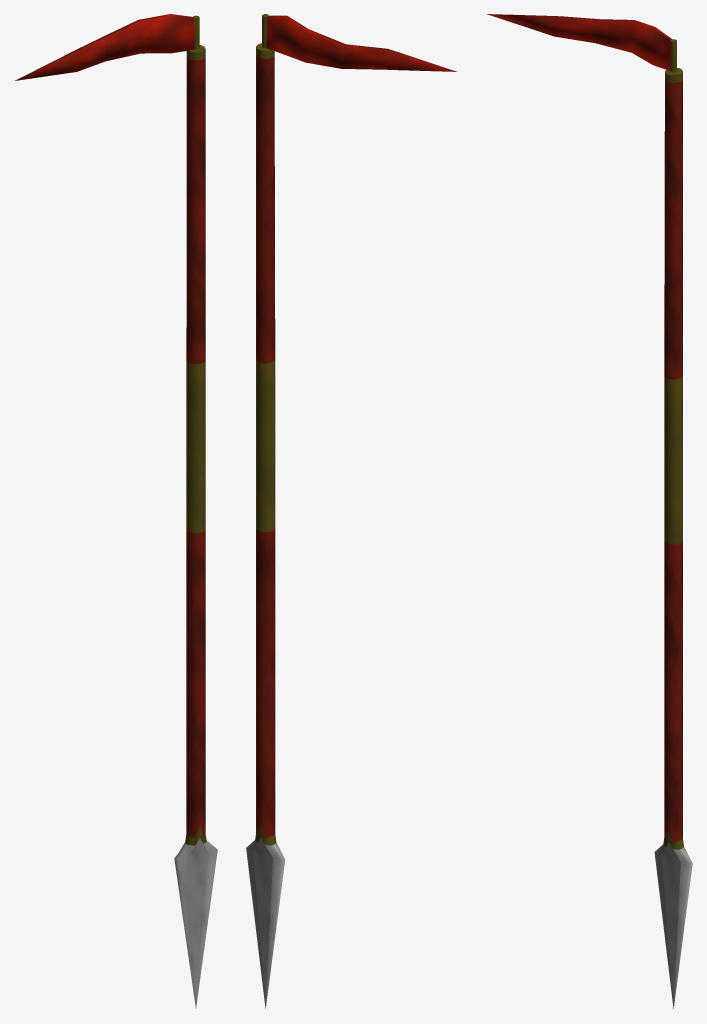
Rendered from AresSpear.fbx.
3 views of the same model, side by side, from view 1: azimuth 30°, elevation 25°; view 2: azimuth 150°, elevation 25°; view 3: azimuth 330°, elevation 25° (orthographic). The views are drawn at different scales.
Visible parts, largest first — view 1: AresSpear; view 2: AresSpear; view 3: AresSpear.
Part boxes in pixels (x1,y1,x2,y2): AresSpear: (15,14,217,1008); AresSpear: (246,14,456,1008); AresSpear: (487,14,692,1008).
Size of the model in its own units: 99.23 by 456 by 11.51.
